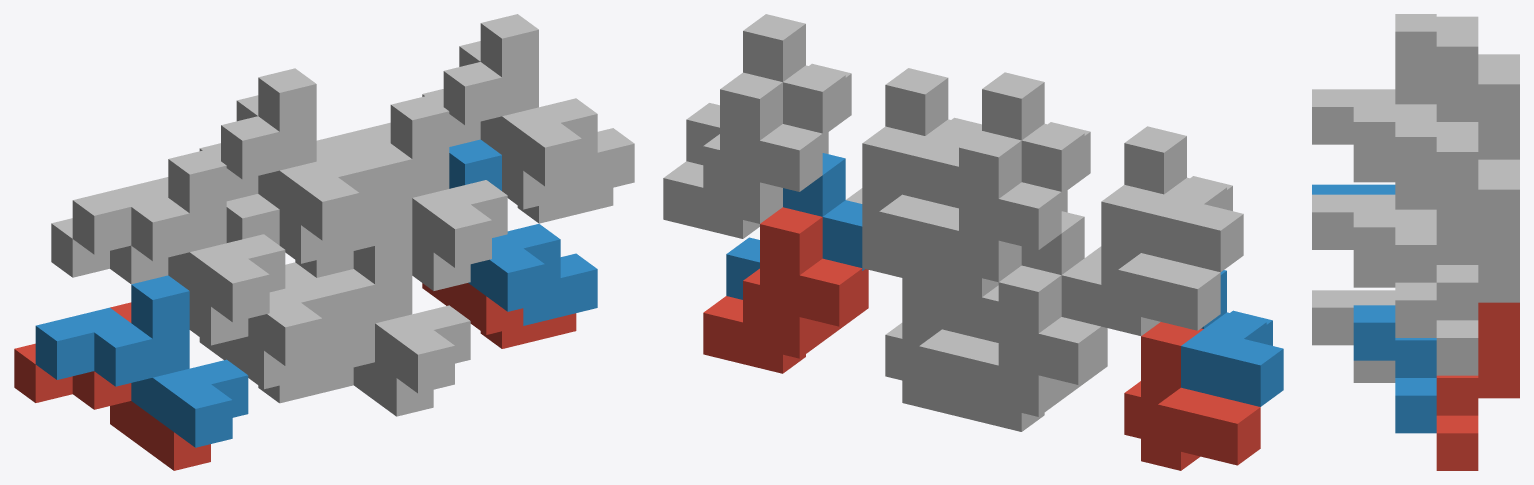
Rendered from tiling.obj.
The picture shows the model from 3 angles, left to right: view 1: azimuth 30°, elevation 25°; view 2: azimuth 150°, elevation 25°; view 3: azimuth 270°, elevation 25°; orthographic projection. The views are drawn at different scales.
Visible parts, largest first — view 1: copy_1_domain_2, copy_1_domain_4, copy_2_domain_8, copy_2_domain_4, copy_1_domain_8, copy_1_domain_6, copy_2_domain_6, copy_2_domain_2, copy_1_domain_1, copy_1_domain_3, copy_2_domain_7, copy_2_domain_3 (+4 smaller); view 2: copy_2_domain_5, copy_2_domain_7, copy_2_domain_1, copy_2_domain_3, copy_1_domain_1, copy_1_domain_3, copy_1_domain_4, copy_1_domain_7, copy_1_domain_5, copy_2_domain_8, copy_1_domain_8, copy_1_domain_2 (+4 smaller); view 3: copy_2_domain_8, copy_2_domain_7, copy_2_domain_5, copy_1_domain_4, copy_1_domain_8, copy_2_domain_4, copy_2_domain_6, copy_2_domain_3, copy_1_domain_6, copy_1_domain_3, copy_1_domain_7, copy_1_domain_2 (+1 smaller).
Boxes of the visible parts, box(x1,y1,x2,y2) form: copy_1_domain_2: box(35, 275, 248, 447); copy_1_domain_4: box(72, 150, 285, 322); copy_2_domain_8: box(443, 14, 634, 200); copy_2_domain_4: box(221, 68, 412, 254); copy_1_domain_8: box(316, 95, 507, 267); copy_1_domain_6: box(285, 237, 470, 393); copy_2_domain_6: box(449, 139, 597, 325); copy_2_domain_2: box(226, 194, 374, 380); copy_1_domain_1: box(14, 302, 210, 470); copy_1_domain_3: box(51, 177, 248, 345); copy_2_domain_7: box(422, 41, 613, 223); copy_2_domain_3: box(199, 95, 353, 277); copy_2_domain_5: box(703, 207, 868, 373); copy_2_domain_7: box(663, 72, 828, 238); copy_2_domain_1: box(942, 265, 1107, 431); copy_2_domain_3: box(902, 131, 1067, 297); copy_1_domain_1: box(1124, 322, 1260, 470); copy_1_domain_3: box(1085, 185, 1220, 335); copy_1_domain_4: box(1124, 126, 1243, 272); copy_1_domain_7: box(846, 126, 958, 277); copy_1_domain_5: box(885, 278, 998, 412); copy_2_domain_8: box(686, 14, 851, 164); copy_1_domain_8: box(885, 68, 981, 208); copy_1_domain_2: box(1181, 270, 1283, 406); copy_2_domain_8: box(1353, 134, 1478, 337); copy_2_domain_7: box(1436, 172, 1519, 375); copy_2_domain_5: box(1436, 302, 1519, 470); copy_1_domain_4: box(1312, 14, 1478, 162); copy_1_domain_8: box(1312, 119, 1478, 267); copy_2_domain_4: box(1353, 29, 1478, 159); copy_2_domain_6: box(1353, 305, 1436, 433); copy_2_domain_3: box(1478, 66, 1519, 159); copy_1_domain_6: box(1312, 290, 1395, 362); copy_1_domain_3: box(1353, 54, 1519, 182); copy_1_domain_7: box(1353, 159, 1519, 287); copy_1_domain_2: box(1312, 184, 1395, 194).
Size of the model in its own units: 15 by 8 by 5.
